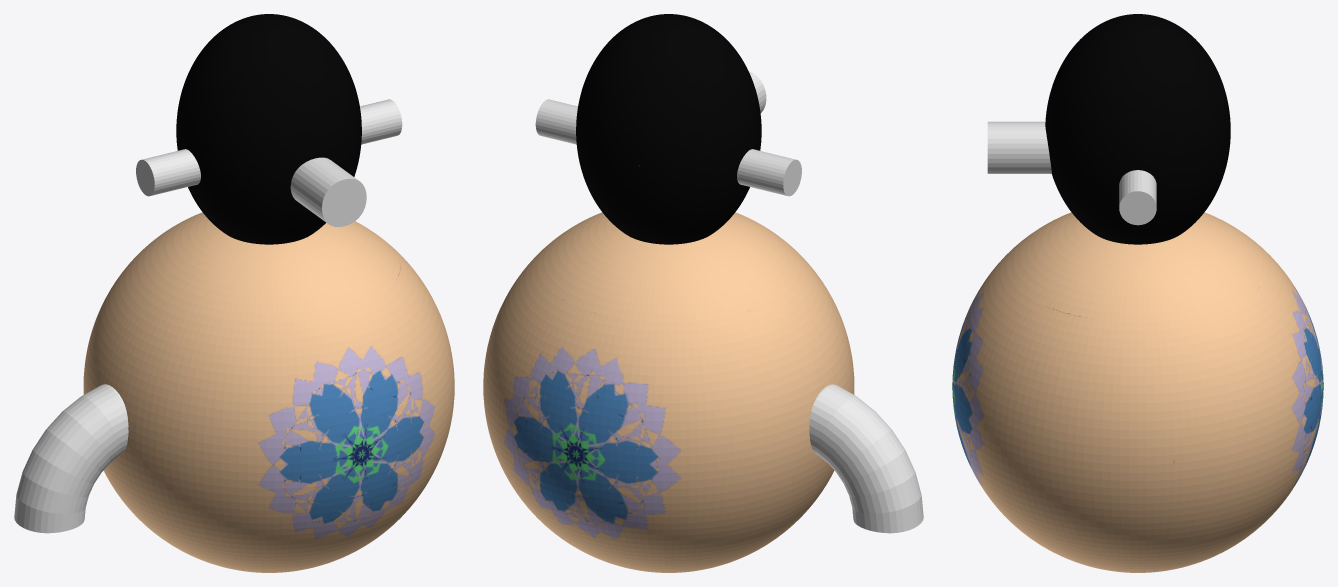
The model's file is BOD0_BMC12_BCC12_BPT4_FRC11_HEA2_HMC1_HCC1_HPT0_ELT1_ERT1_ELL0_ERL0_AP1_AAL2_AAR0_BEK1.fbx.
The picture shows the model from 3 angles, left to right: view 1: azimuth 30°, elevation 25°; view 2: azimuth 150°, elevation 25°; view 3: azimuth 270°, elevation 25°; orthographic projection.
Parts seen in each view (by area): view 1: Body, Arm, Beak, Ear, Ear.001; view 2: Body, Arm, Ear, Ear.001; view 3: Body, Beak, Ear.001.
Boxes of the visible parts, x1,y1,x2,y2 form: Body: (83, 14, 454, 572); Arm: (14, 384, 128, 533); Beak: (290, 157, 366, 226); Ear: (136, 149, 200, 196); Ear.001: (360, 99, 402, 144); Body: (483, 14, 854, 572); Arm: (809, 384, 923, 533); Ear: (737, 149, 801, 196); Ear.001: (535, 99, 577, 144); Body: (952, 14, 1323, 572); Beak: (987, 121, 1051, 173); Ear.001: (1119, 170, 1156, 225).
Size of the model in its own units: 62.99 by 78.65 by 49.36.
1 material, 1 textured.
